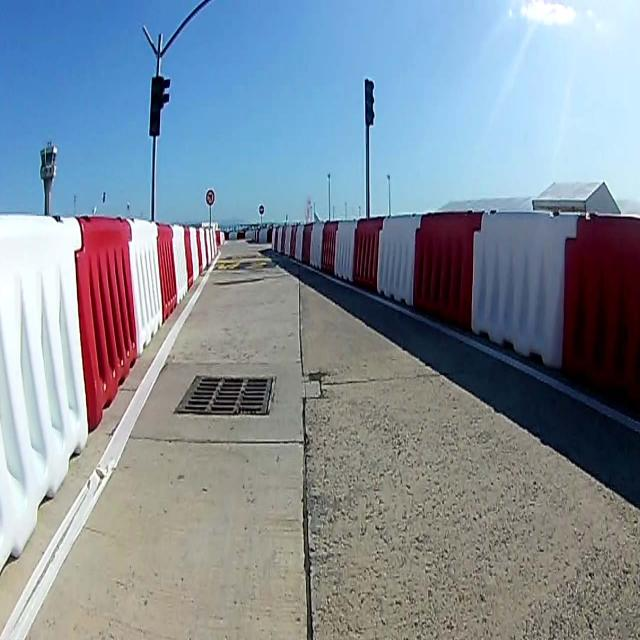soladonulmez: (206, 189, 215, 206)
